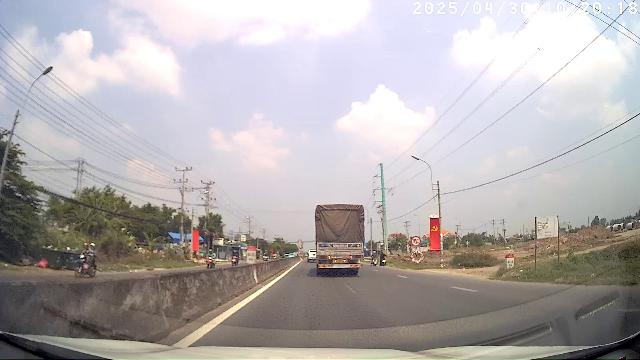124b-cam-oto-quay-dau-xe: (412, 236, 421, 246)
